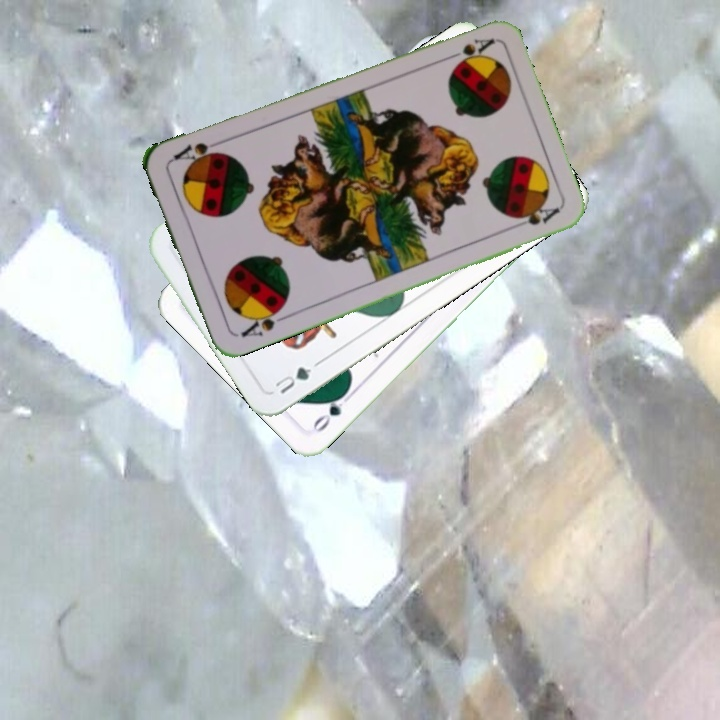GO: (308, 386, 355, 435)
GU: (271, 358, 322, 397)
SA: (237, 302, 291, 340), (440, 34, 497, 66)
